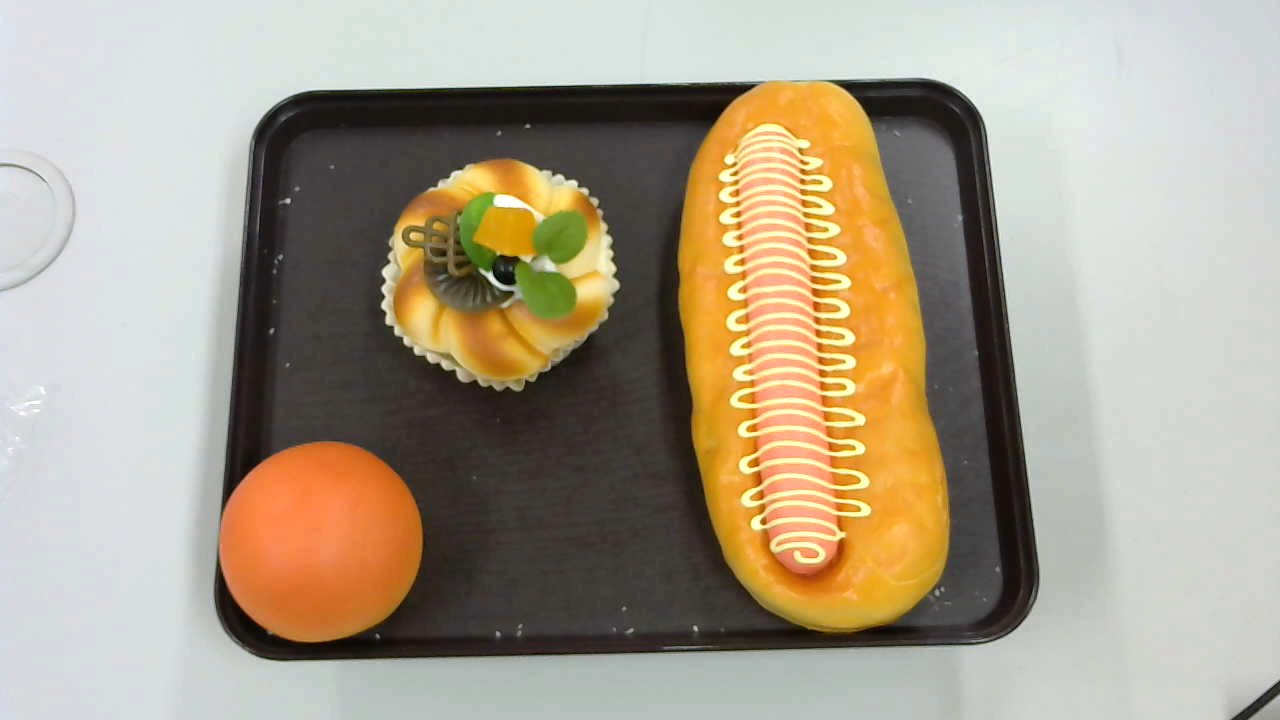bun: (219, 439, 423, 642)
fruit tart: (382, 157, 618, 393)
hot dog: (675, 79, 952, 636)
